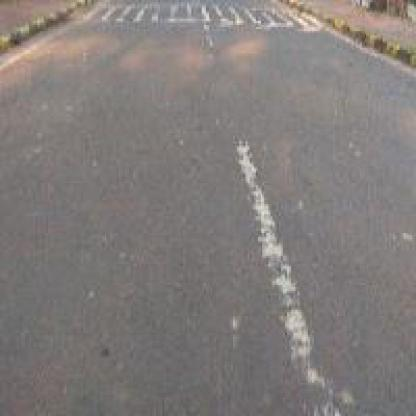Speed Bump: (79, 4, 314, 29)
